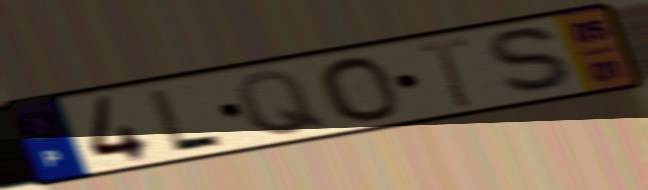4: (85, 91, 153, 165)
L: (144, 85, 228, 153)
O: (315, 54, 404, 123)
Q: (231, 68, 332, 139)
S: (484, 25, 584, 98)
T: (411, 34, 474, 112)
